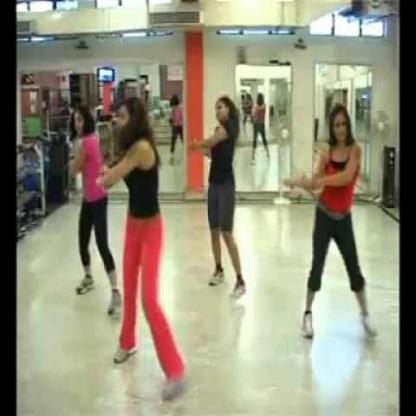face: (119, 105, 132, 137), (335, 115, 349, 142), (73, 113, 85, 136), (216, 102, 228, 122)
